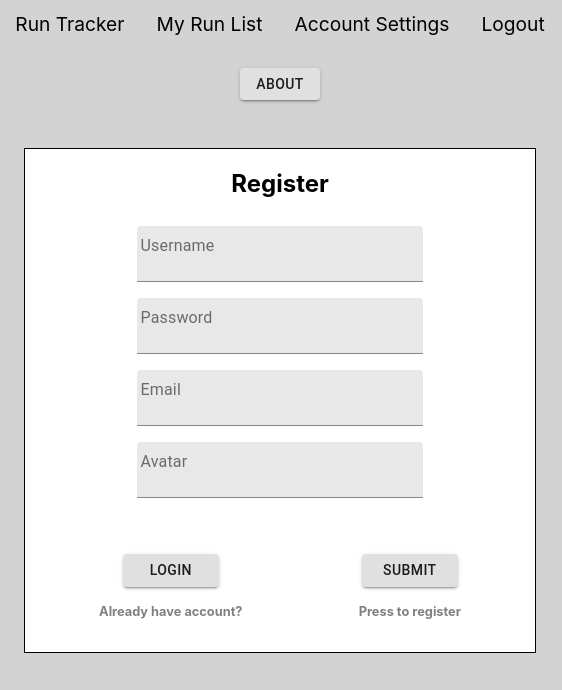
Test case: Registration errors › Show username error
Type "aaa" into the field named "username" next to "Username" at (281, 254), box [137,226,424,282]
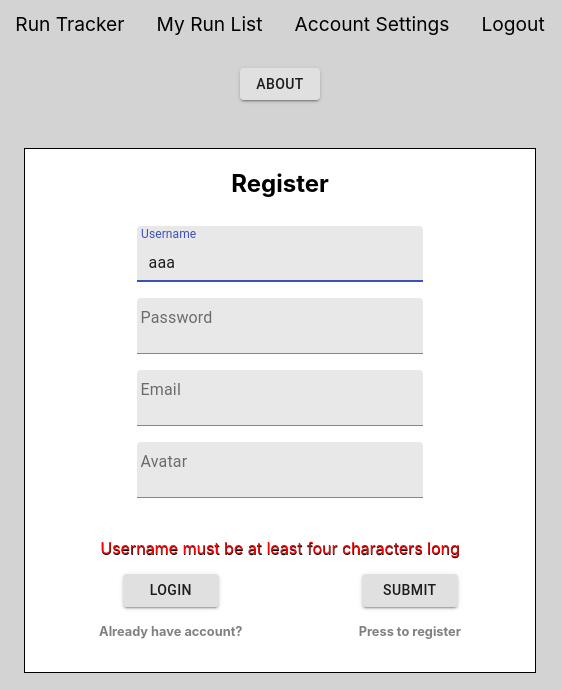
Result: the text "Username must be at least four characters long" is shown at [100,538,460,558]
